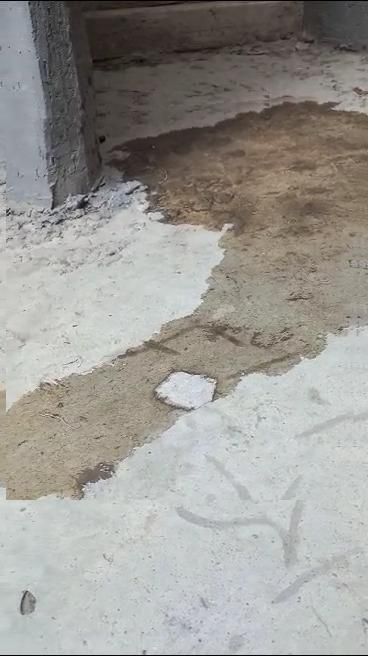water accumulation: (0, 92, 368, 502)
